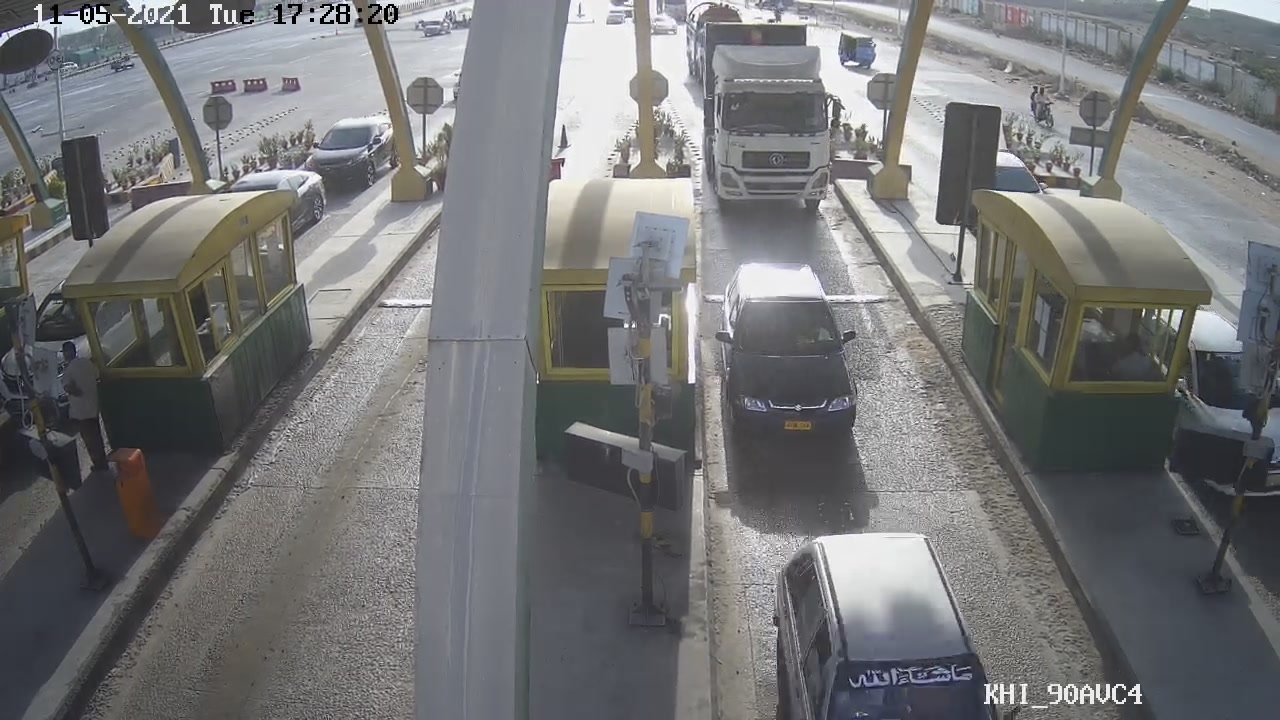F1: (717, 259, 866, 454)
F6: (701, 6, 844, 210)
